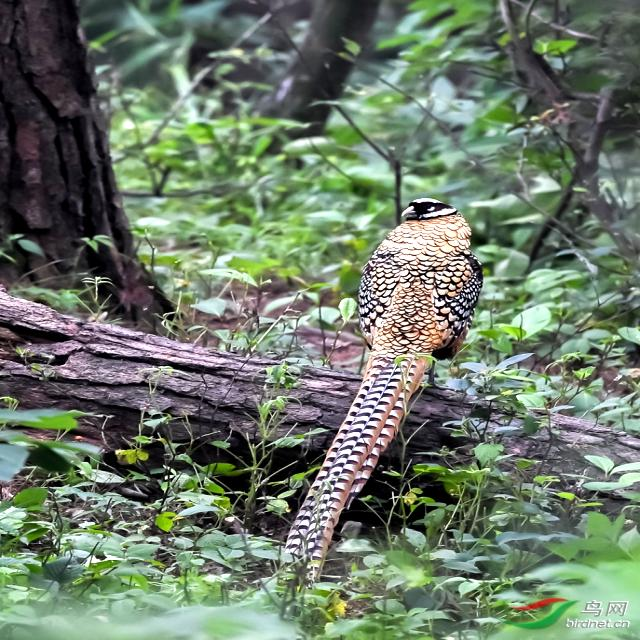Reeves-s Pheasant: (286, 354, 431, 583)
